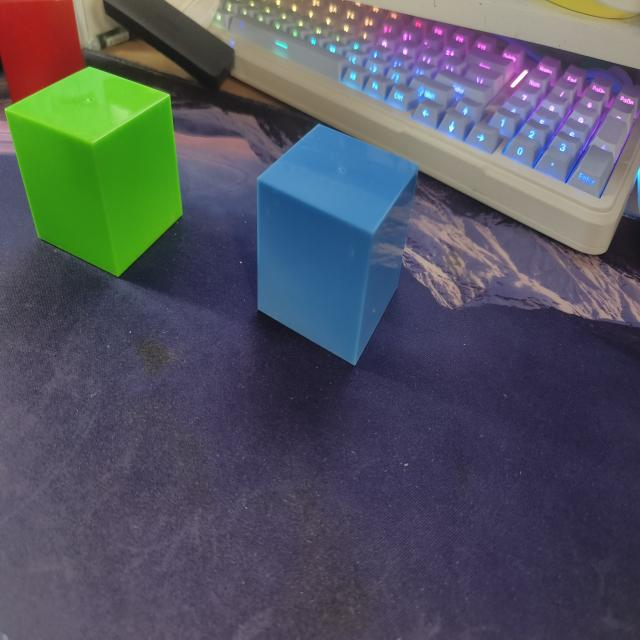blue: (257, 122, 418, 365)
green: (5, 65, 183, 278)
